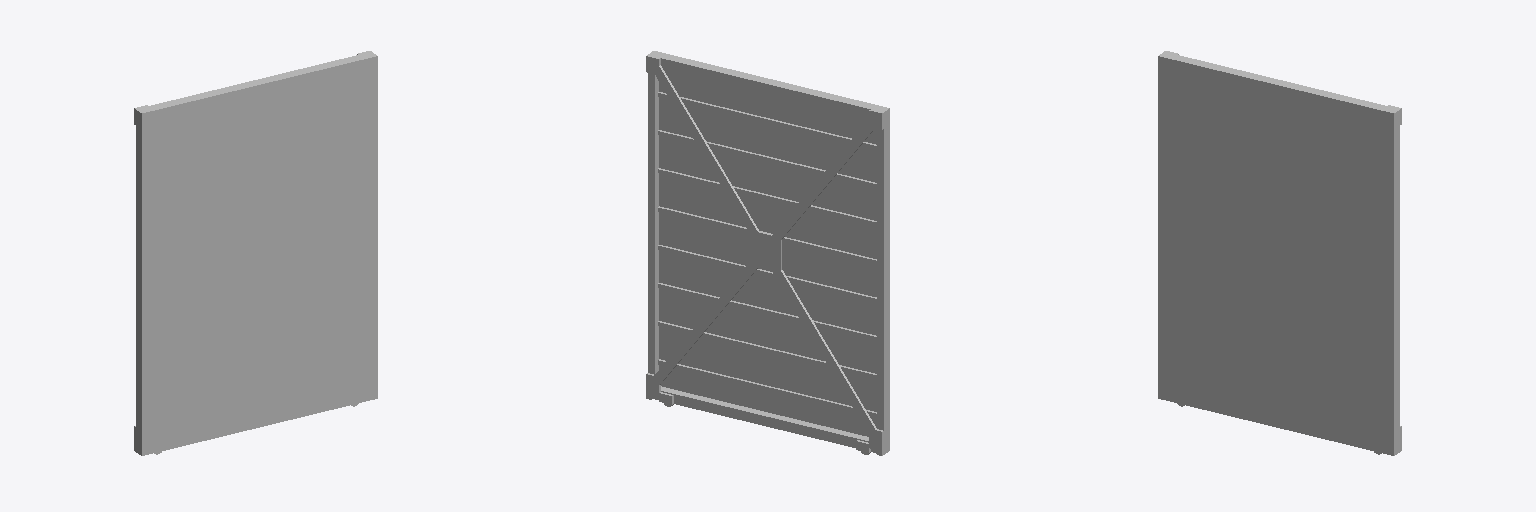
File: f_door_r1.obj
3 views of the same model, side by side, from view 1: azimuth 30°, elevation 25°; view 2: azimuth 150°, elevation 25°; view 3: azimuth 330°, elevation 25° (orthographic).
Bounding box in the file's own units: 1067 × 1502 × 58.95.